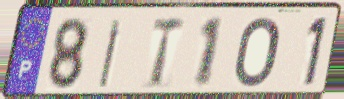1: (192, 14, 226, 90), (301, 14, 331, 90)
8: (44, 15, 91, 93)
I: (96, 17, 125, 90)
O: (232, 15, 282, 90)
T: (149, 15, 188, 91)
